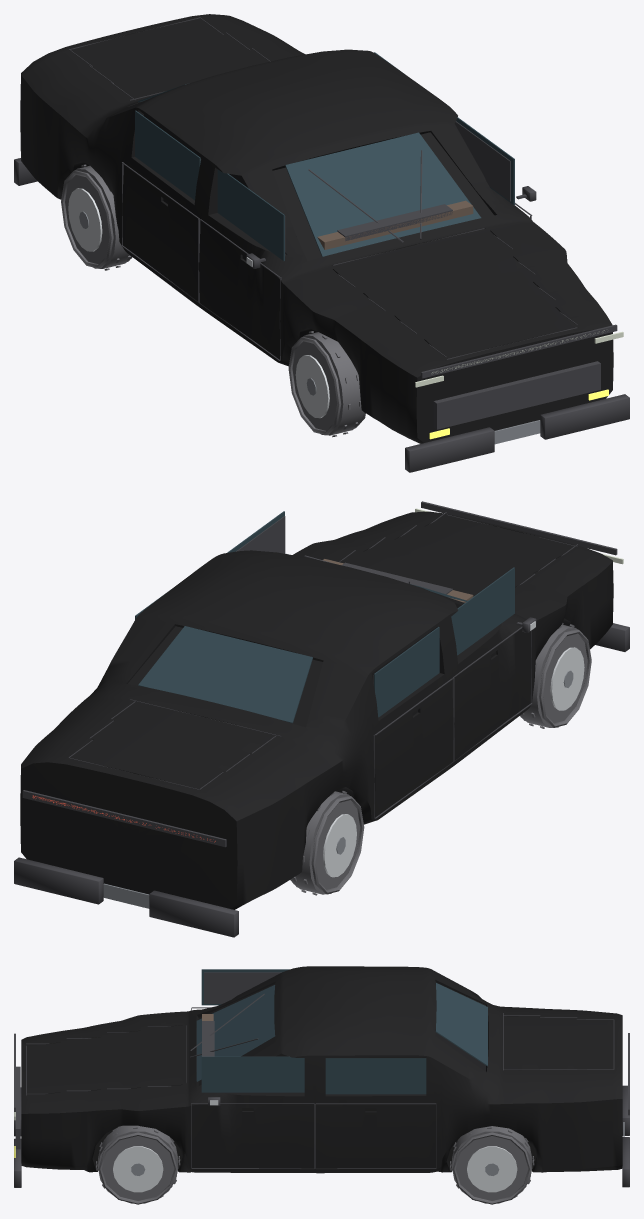
The model's file is Sedan_Mid_A_Black.fbx.
The picture shows the model from 3 angles, top to bottom: view 1: azimuth 30°, elevation 25°; view 2: azimuth 150°, elevation 25°; view 3: azimuth 270°, elevation 25°; orthographic projection. The views are drawn at different scales.
Parts seen in each view (by area): view 1: LOD0; view 2: LOD0; view 3: LOD0.
Part boxes in pixels (x1=…): LOD0: x1=14, y1=14, x2=629, y2=472; LOD0: x1=14, y1=501, x2=629, y2=937; LOD0: x1=14, y1=966, x2=629, y2=1204.
Size of what is drawn, in the model's own units: 204 by 144 by 491.
